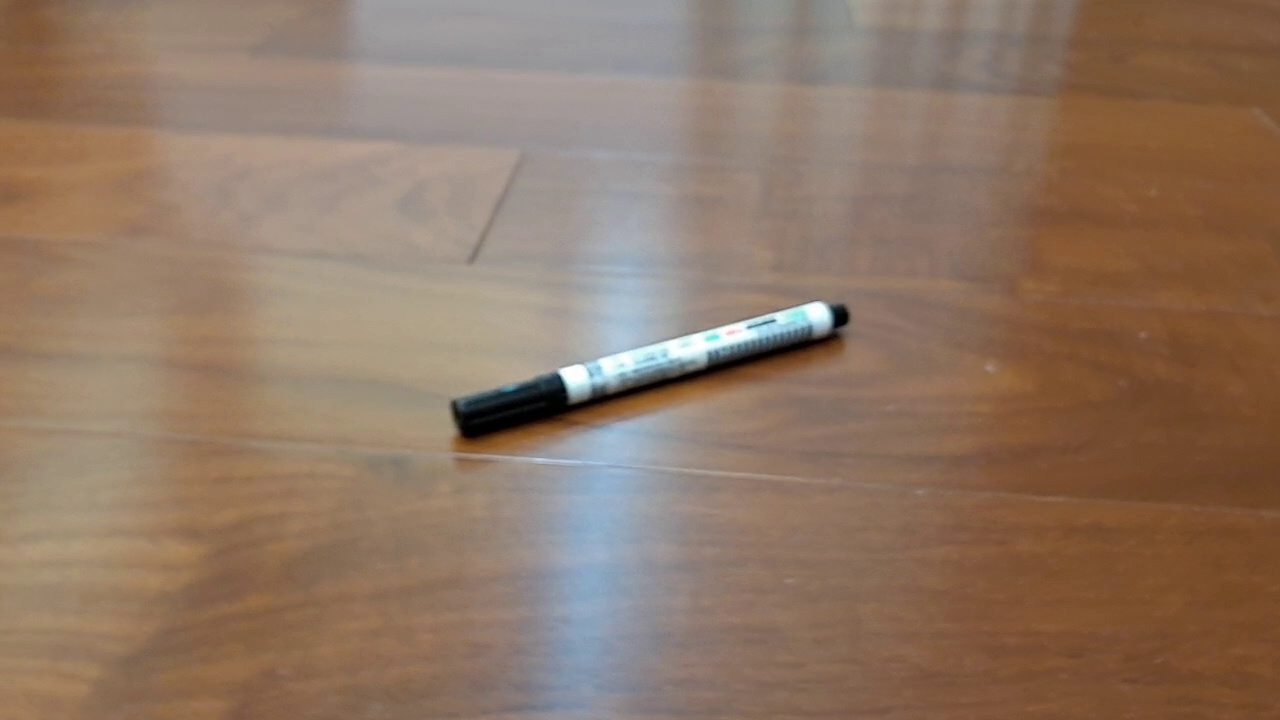pen: (450, 299, 850, 440)
